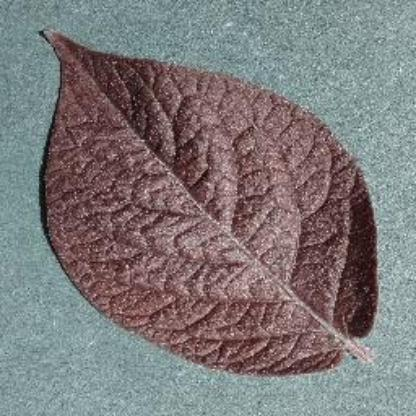Healthy-plant: (34, 27, 384, 376)
